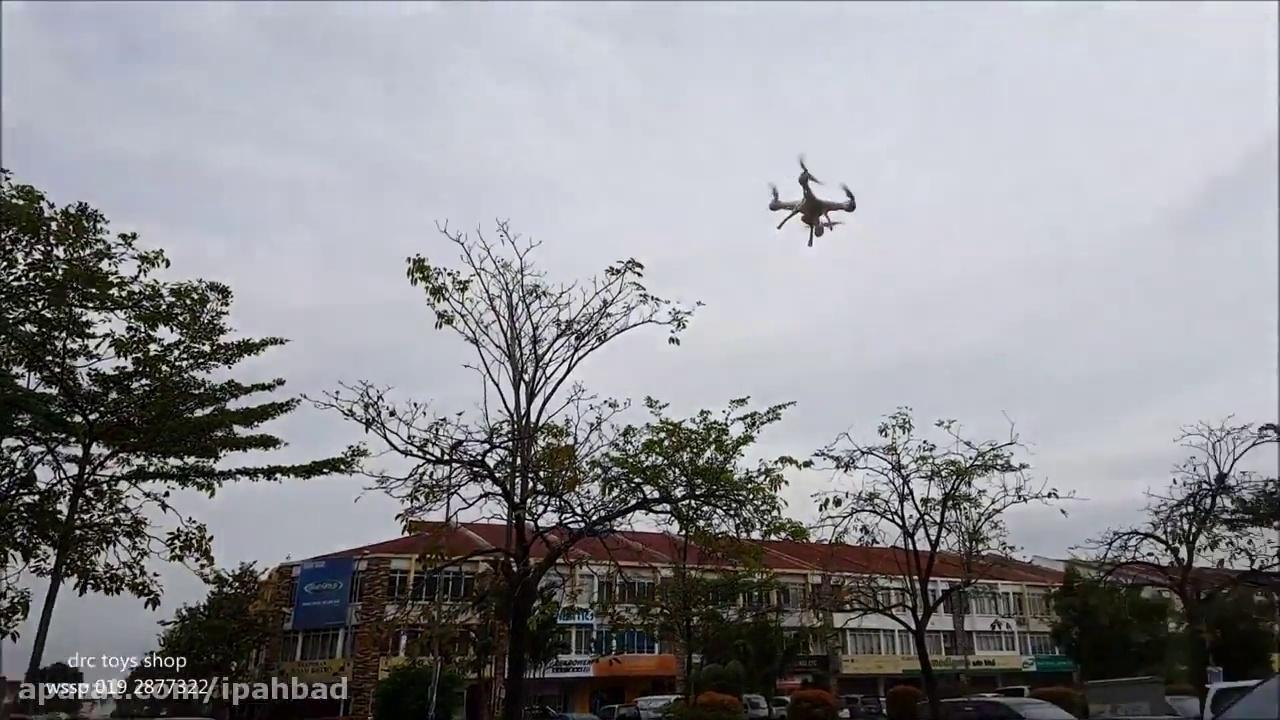drone: (760, 155, 856, 251)
